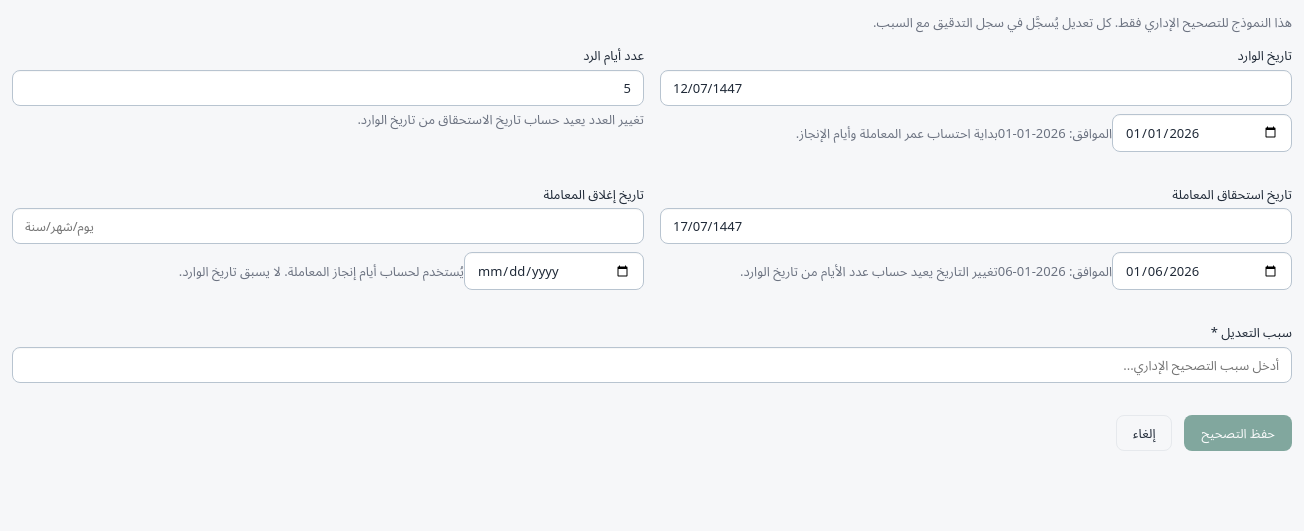
Test case: AdminEditDatesFormPanel › rejects a negative response due days value on submit
Type "تصحيح" into the field labelled "سبب التعديل *" at (652, 365), box [12, 347, 1292, 383]
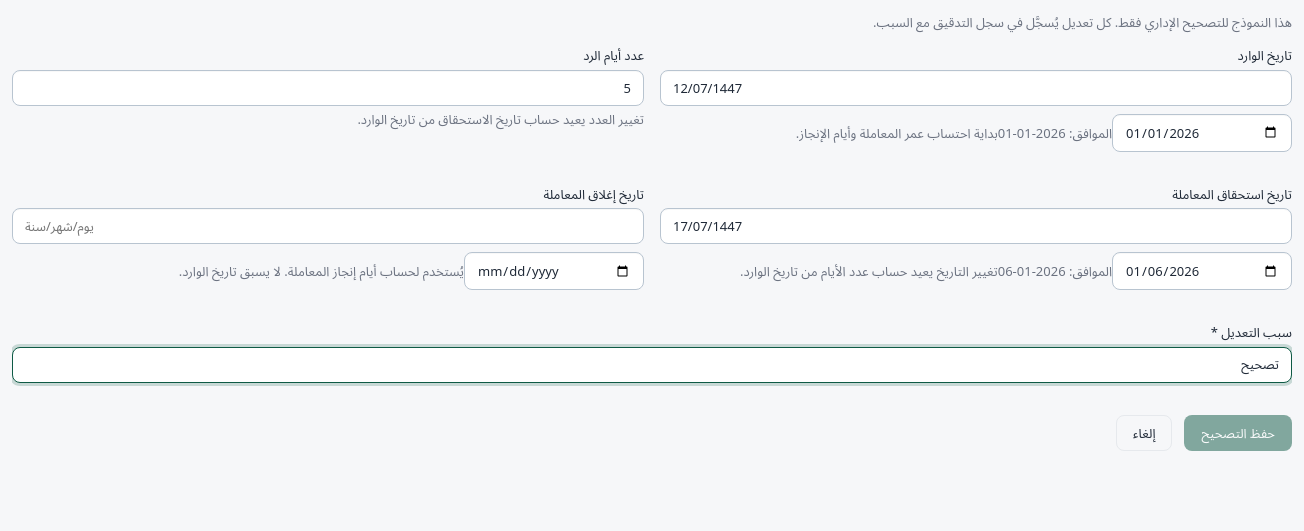
Replace the text in the number field labelled "عدد أيام الرد" with "-5" at (328, 88), box [12, 70, 644, 106]
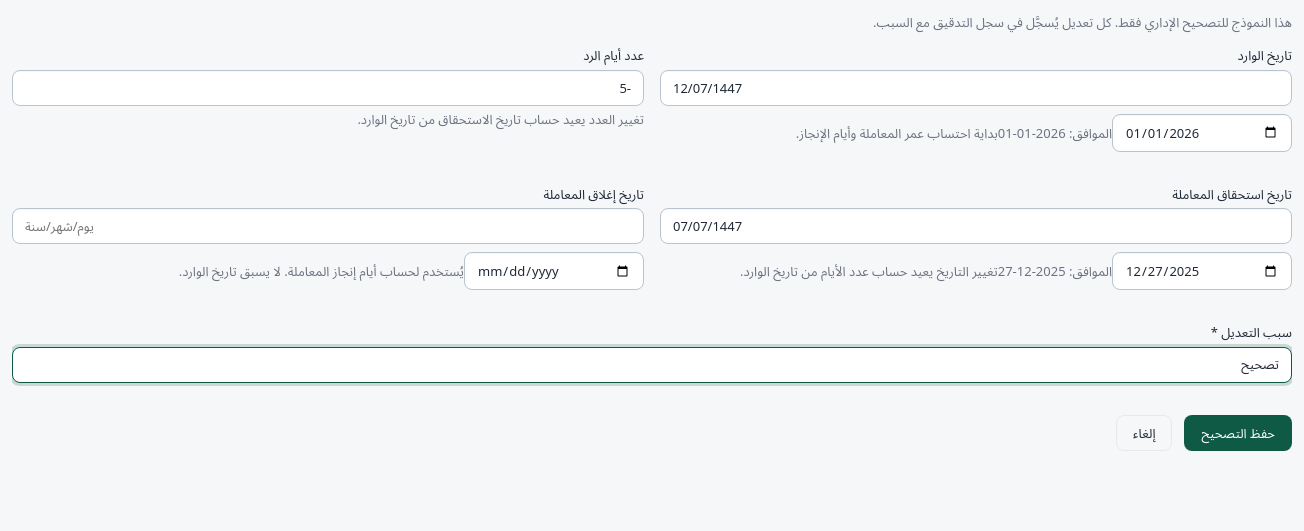
Submit the form
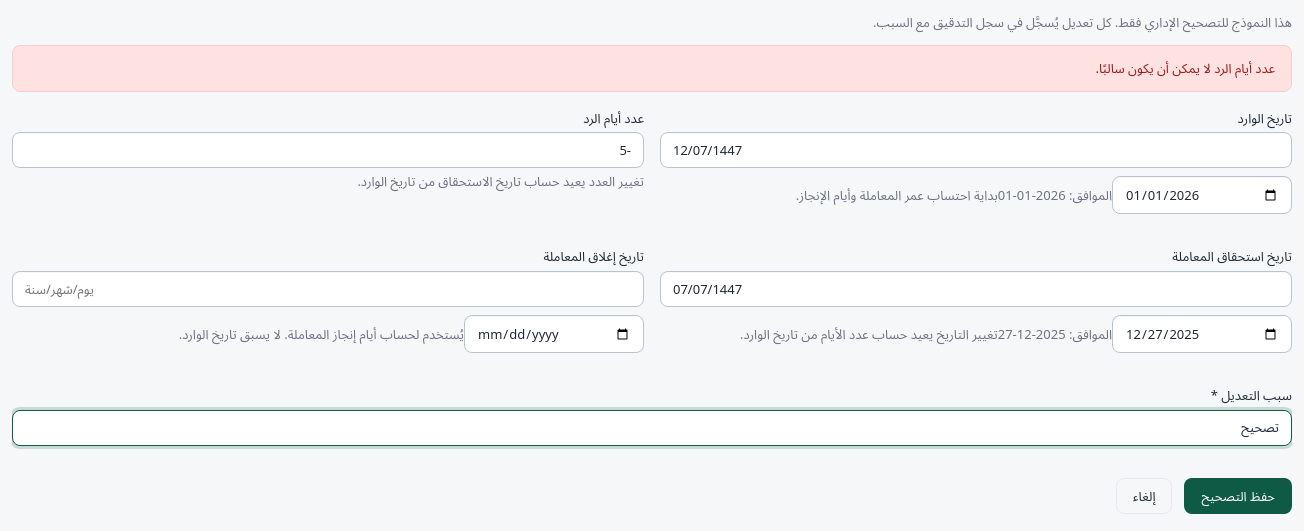
Check: the text "عدد أيام الرد لا يمكن أن يكون سالبًا." is shown, box [12, 45, 1292, 92]
